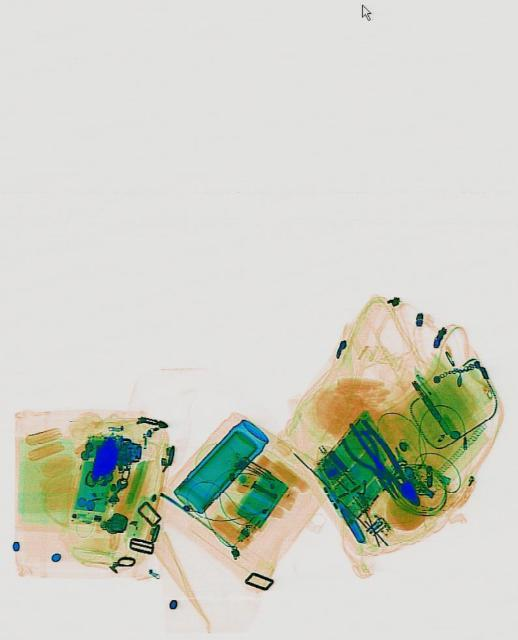Pliers: (343, 408, 426, 514), (336, 418, 407, 506)
